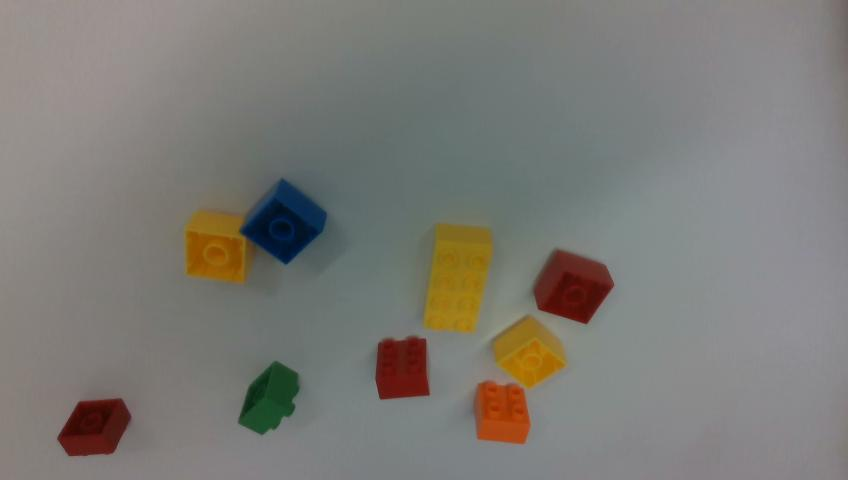2x2_blue: (241, 179, 326, 264)
2x2_green: (239, 362, 299, 434)
2x2_orange: (477, 381, 530, 442)
2x2_red: (534, 250, 613, 323), (58, 398, 130, 455), (376, 339, 429, 398)
2x2_yellow: (494, 315, 567, 388), (184, 211, 254, 283)
4x2_yellow: (424, 223, 492, 330)
